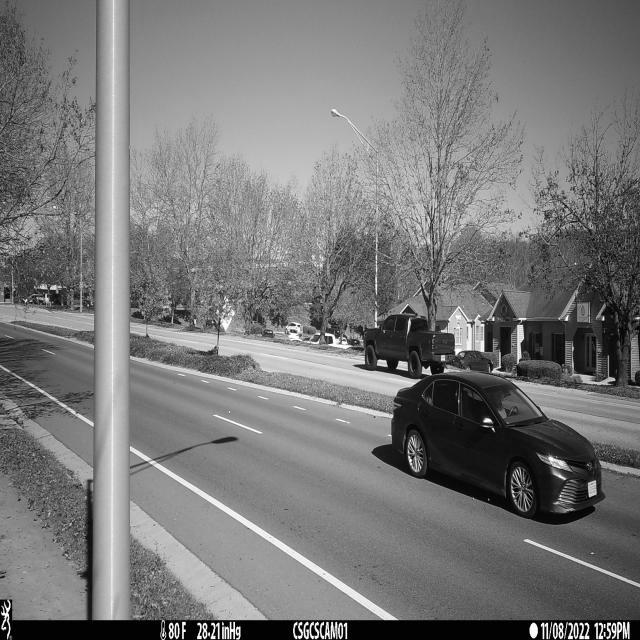Sedan: (391, 373, 606, 517)
